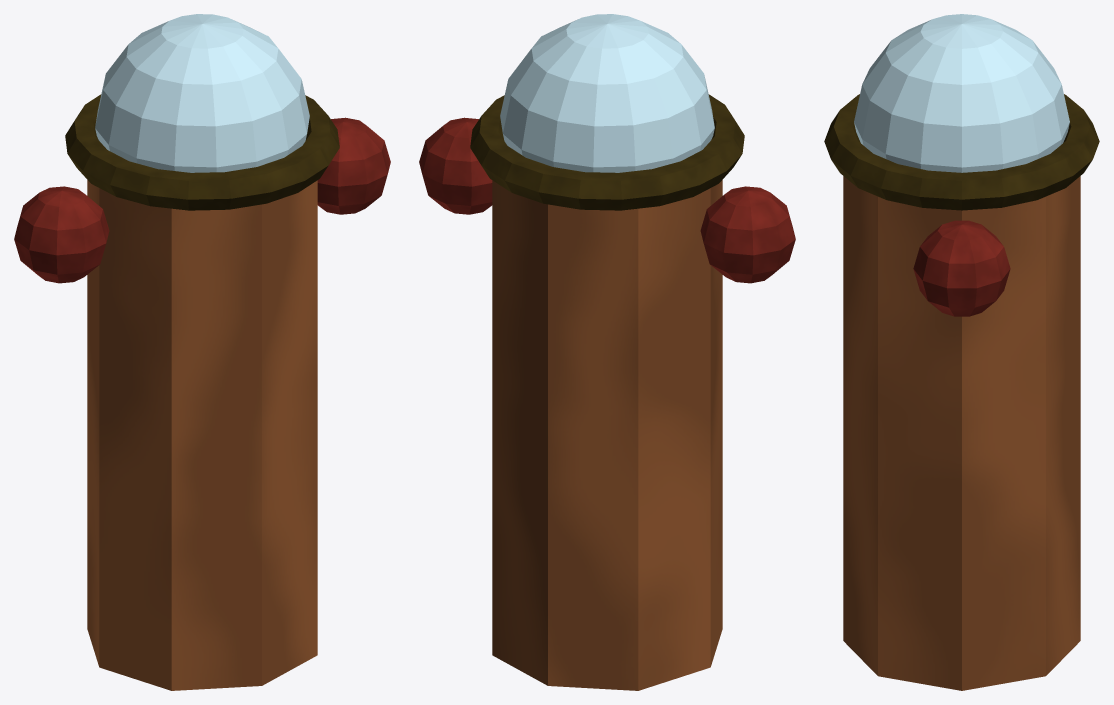
Rendered from upgrade_brass_compass.glb.
The picture shows the model from 3 angles, left to right: view 1: azimuth 30°, elevation 25°; view 2: azimuth 150°, elevation 25°; view 3: azimuth 270°, elevation 25°; orthographic projection.
Visible parts, largest first — view 1: upgrade_brass_compass_mesh; view 2: upgrade_brass_compass_mesh; view 3: upgrade_brass_compass_mesh.
Part boxes in pixels (x1,y1,x2,y2): upgrade_brass_compass_mesh: [14, 14, 390, 690]; upgrade_brass_compass_mesh: [419, 14, 795, 690]; upgrade_brass_compass_mesh: [824, 14, 1099, 690].
Size of the model in its own units: 0.7712 by 1.26 by 0.51.
1 material, 1 textured.
